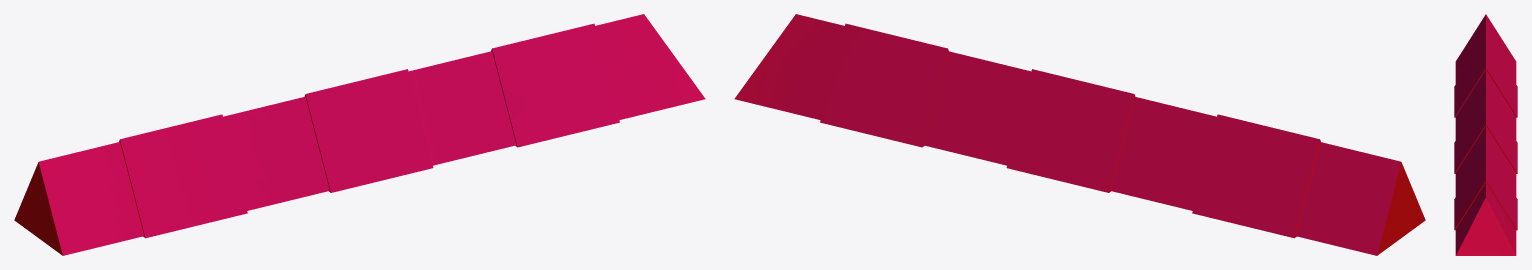
The model's file is Roof Tiles 4.fbx.
3 views of the same model, side by side, from view 1: azimuth 30°, elevation 25°; view 2: azimuth 150°, elevation 25°; view 3: azimuth 270°, elevation 25° (orthographic). The views are drawn at different scales.
Visible parts, largest first — view 1: Roof Tiles 4; view 2: Roof Tiles 4; view 3: Roof Tiles 4.
Boxes of the visible parts, box(x1,y1,x2,y2) form: Roof Tiles 4: box(14, 14, 705, 255); Roof Tiles 4: box(734, 14, 1425, 255); Roof Tiles 4: box(1454, 14, 1517, 255).
Bounding box in the file's own units: 393 × 46.92 × 54.18.
1 material, 1 textured.
